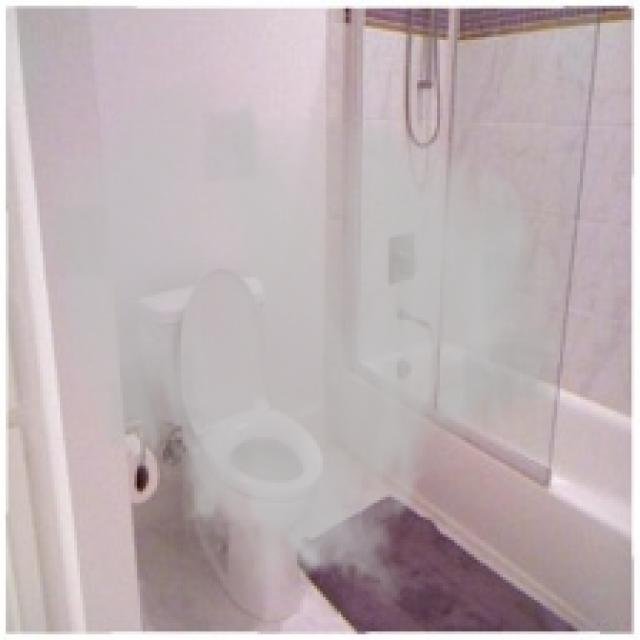smoke: (37, 71, 569, 608)
